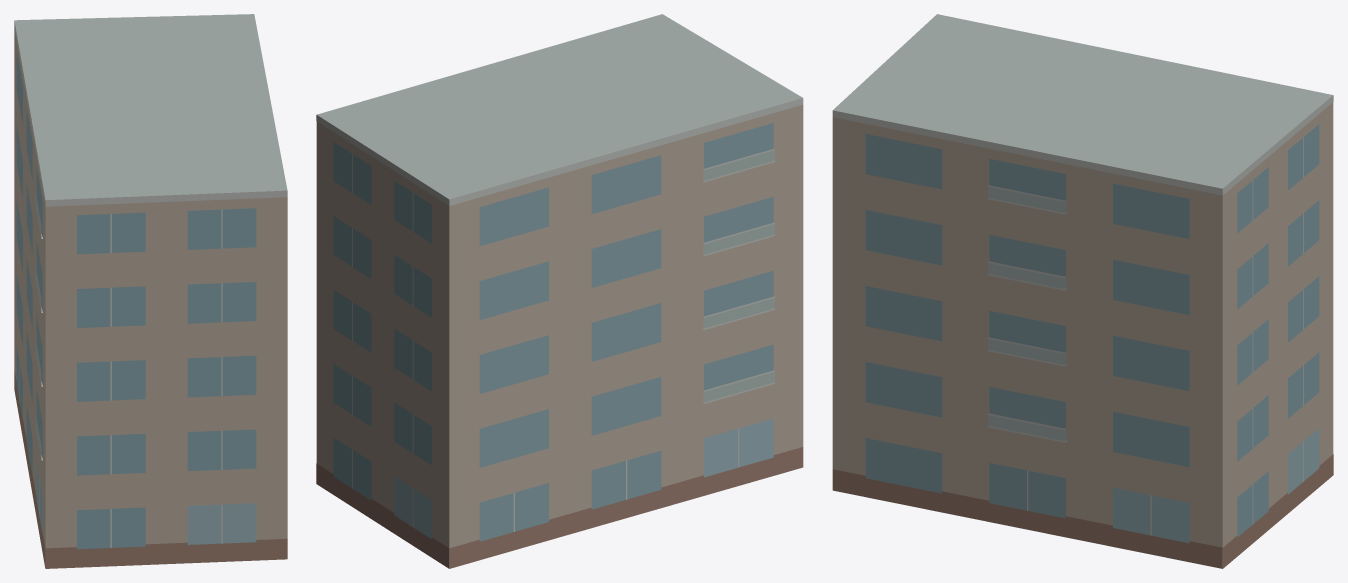
Rendered from survey-upis-32884350.glb.
The picture shows the model from 3 angles, left to right: view 1: azimuth 30°, elevation 25°; view 2: azimuth 150°, elevation 25°; view 3: azimuth 270°, elevation 25°; orthographic projection. The views are drawn at different scales.
Parts seen in each view (by area): view 1: survey-upis-32884350.tmp; view 2: survey-upis-32884350.tmp; view 3: survey-upis-32884350.tmp.
Boxes of the visible parts, x1,y1,x2,y2 form: survey-upis-32884350.tmp: (14,14,287,568); survey-upis-32884350.tmp: (316,14,803,568); survey-upis-32884350.tmp: (832,14,1333,568).
Size of the model in its own units: 13.52 by 13.7 by 16.37.
